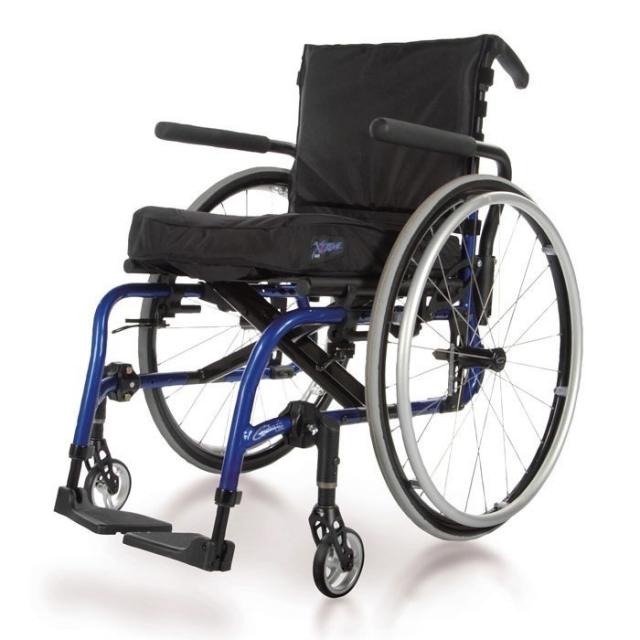wheelchair: (39, 29, 600, 608)
